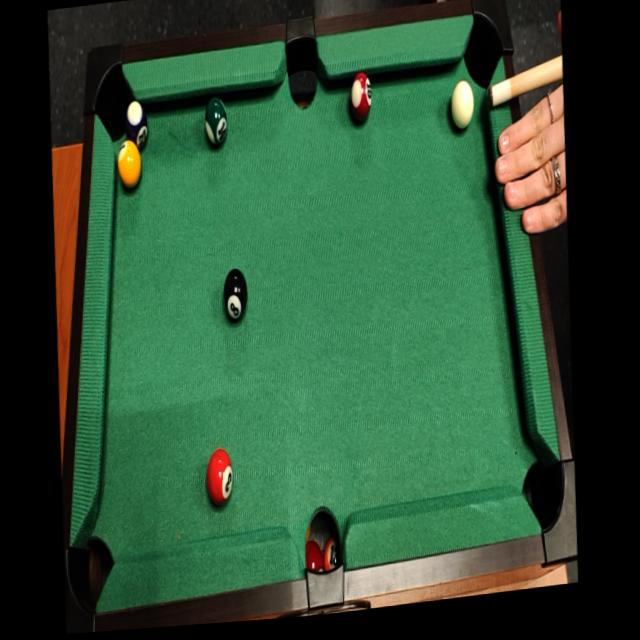cue ball: (447, 75, 479, 138)
other: (202, 446, 236, 510), (121, 96, 152, 157), (222, 261, 251, 326), (347, 67, 376, 130), (201, 91, 231, 150), (116, 142, 146, 192)
